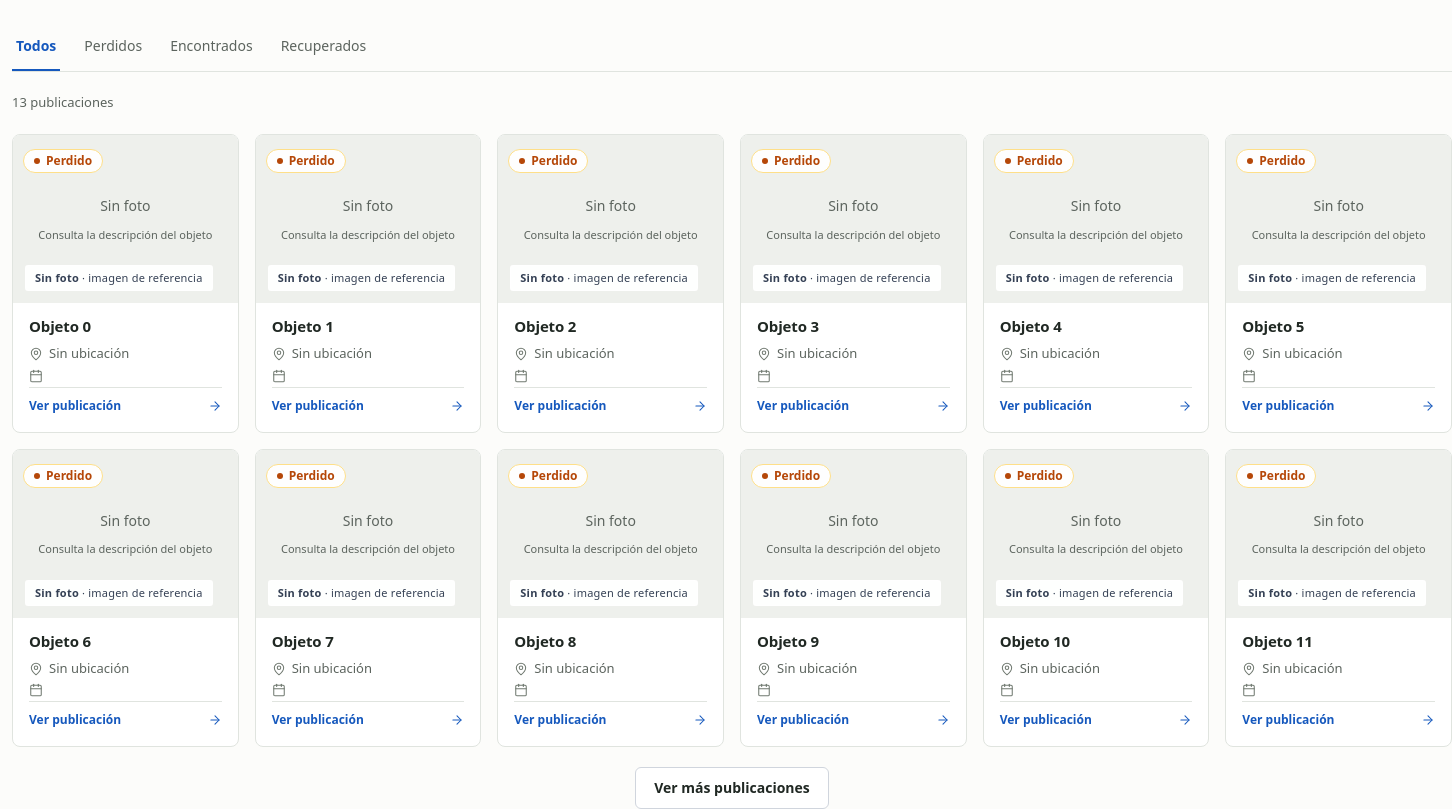
Test: permite consultar las publicaciones anteriores después de las primeras doce
(page scrolled)
expect the heading "Objeto 0" is shown: met, box [29,316,91,336]
expect the text "Objeto 12" is not shown: met
Click the button "Ver más publicaciones". click: x=732, y=788
box: [635,767,829,808]
(page scrolled)
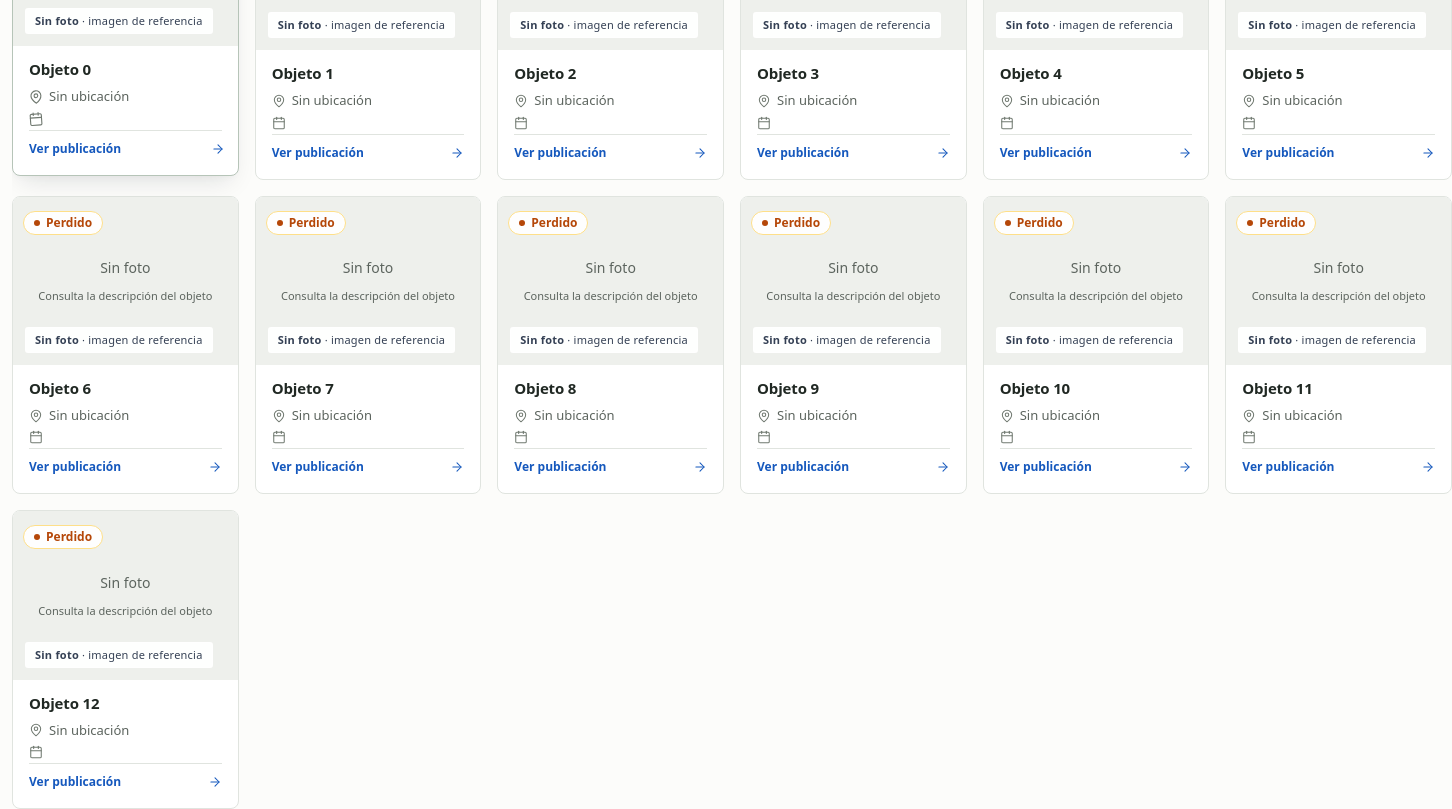
expect the heading "Objeto 12" is shown: met, box [29,693,99,713]
